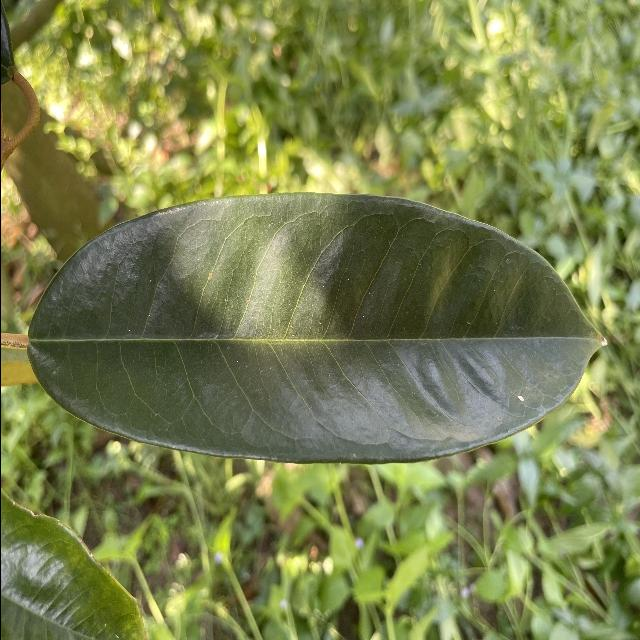No Disease: (19, 185, 613, 475)
